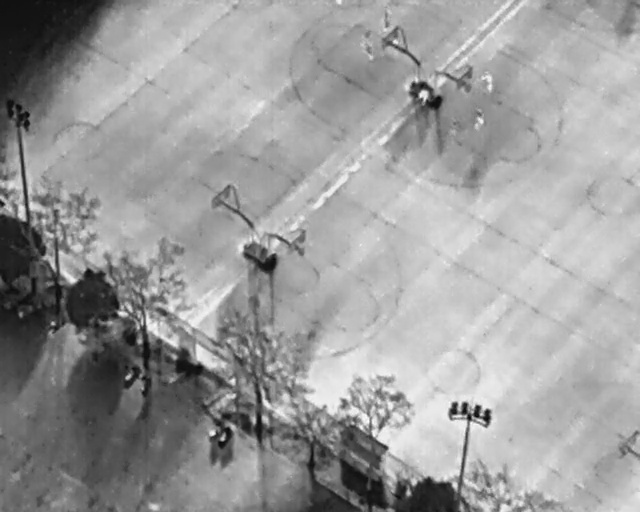Person: (416, 88, 431, 108), (482, 72, 494, 94), (364, 44, 377, 63), (474, 108, 485, 129), (383, 9, 392, 32), (363, 29, 373, 43)
